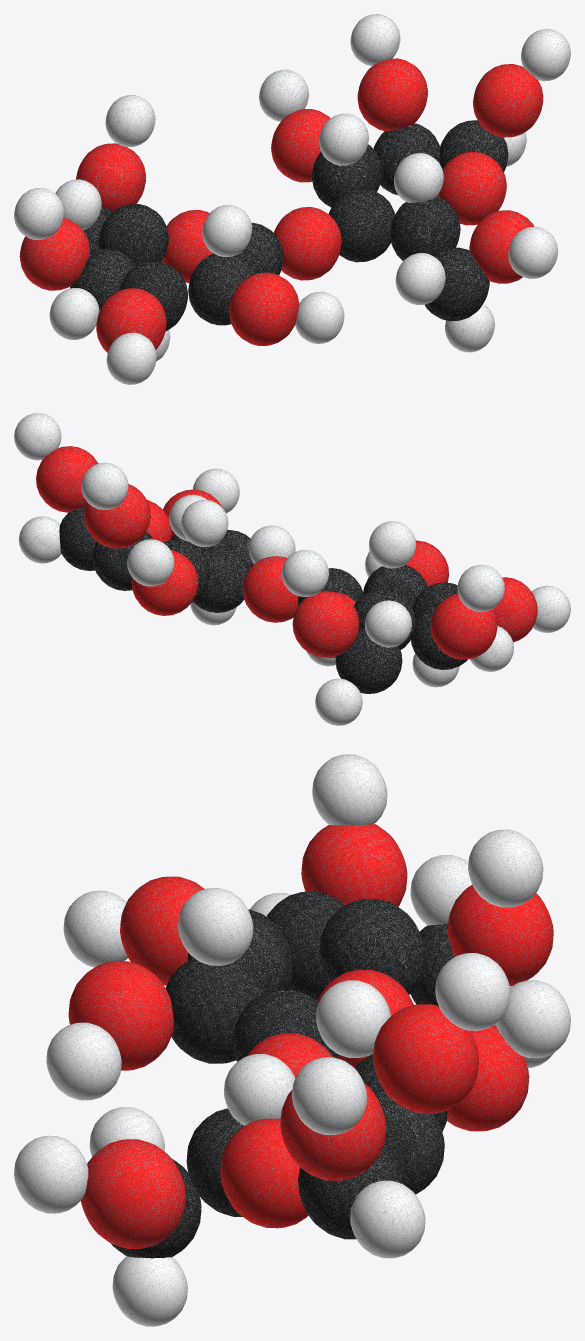
The model's file is Carbs.dae.
3 renders of one model, top to bottom at view 1: azimuth 30°, elevation 25°; view 2: azimuth 150°, elevation 25°; view 3: azimuth 270°, elevation 25°, orthographic. The views are drawn at different scales.
Parts seen in each view (by area): view 1: SketchUp (×39); view 2: SketchUp (×38); view 3: SketchUp (×37).
Part boxes in pixels (x1,y1,x2,y2): SketchUp (×39): (14,14,570,384); SketchUp (×38): (14,413,570,725); SketchUp (×37): (14,754,570,1326).
Size of the model in its own units: 6154 by 3637 by 2715.
